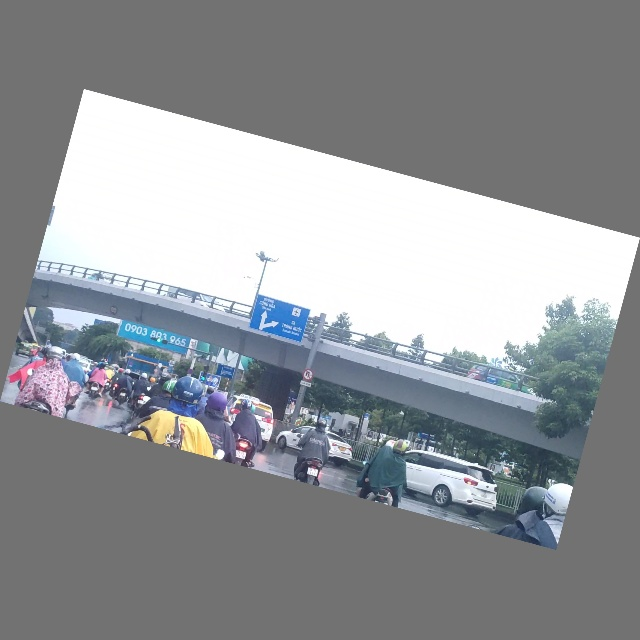P.124b1: (301, 369, 315, 384)
